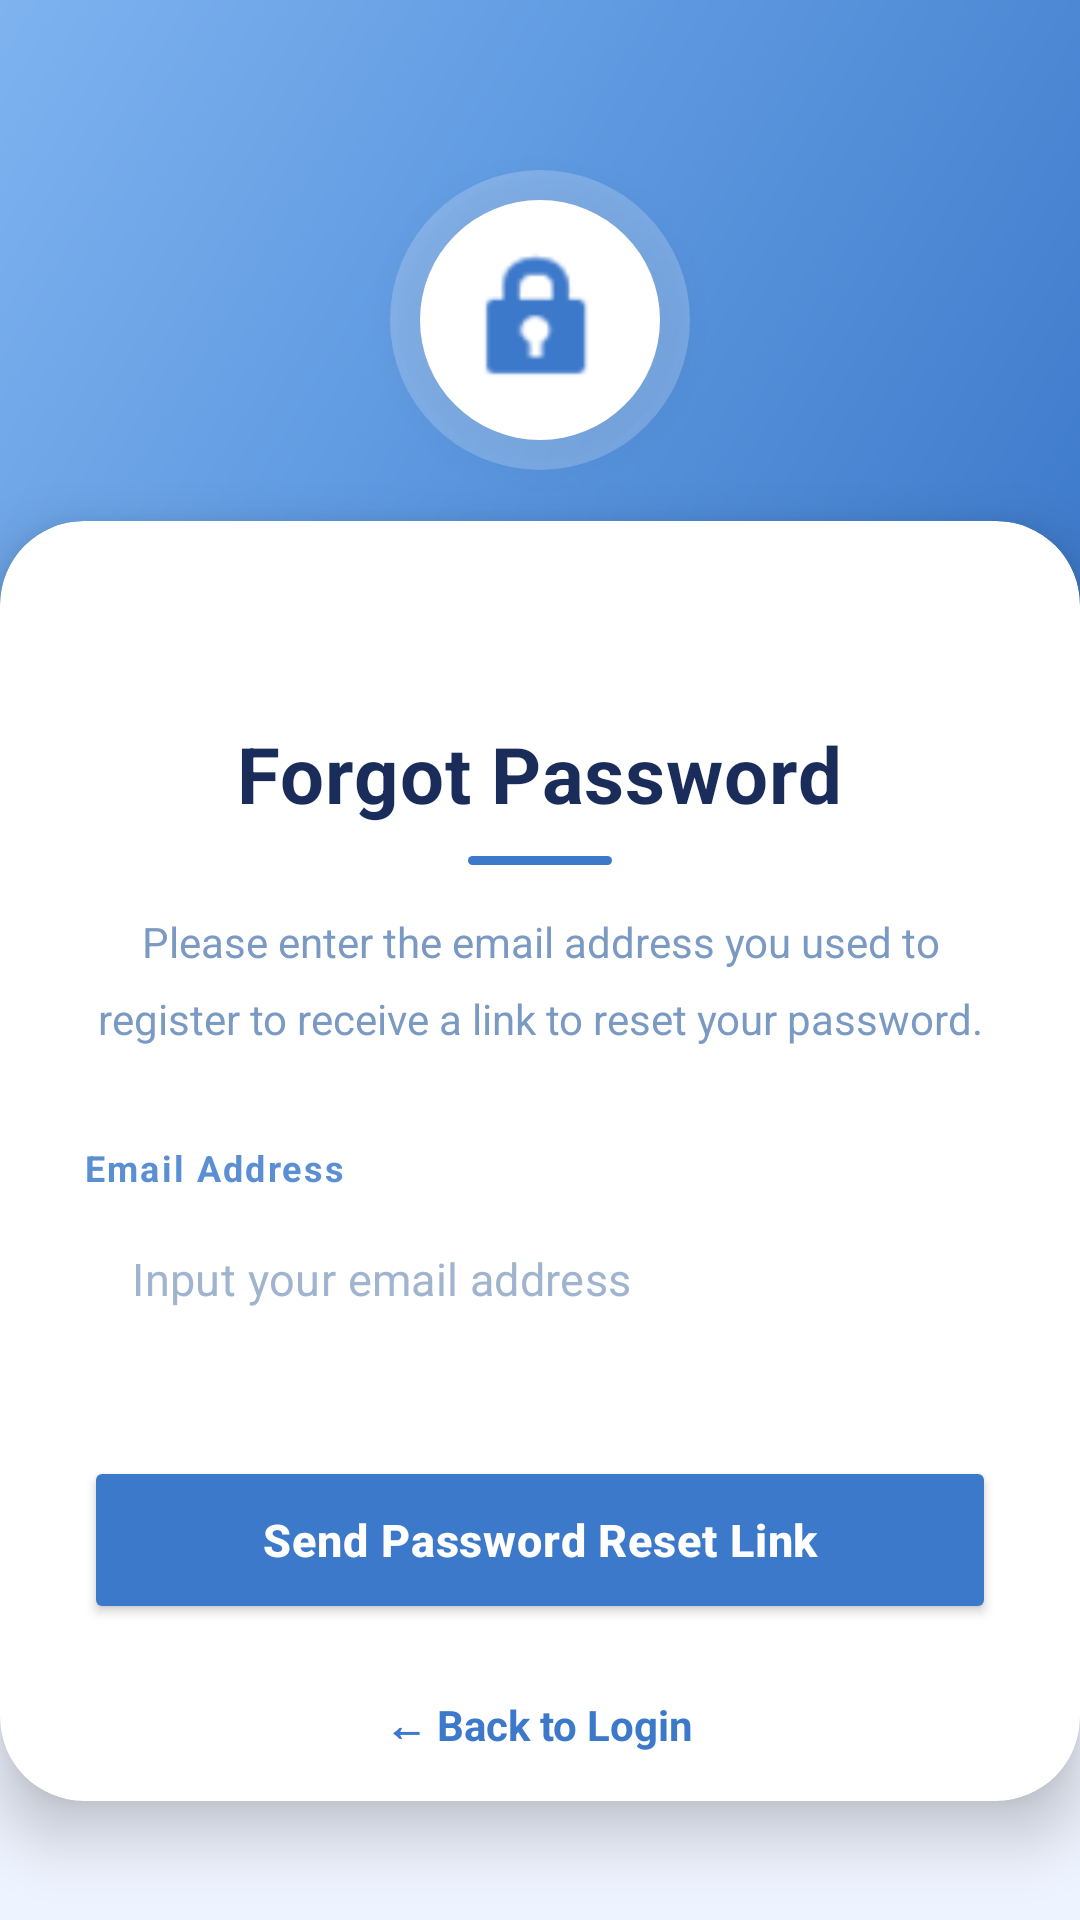

Named icons in this screenshot (1080px x 1920px) and their bounding boxes, (x1, y1, x2, y2):
lock idle: (485, 255, 588, 375)
